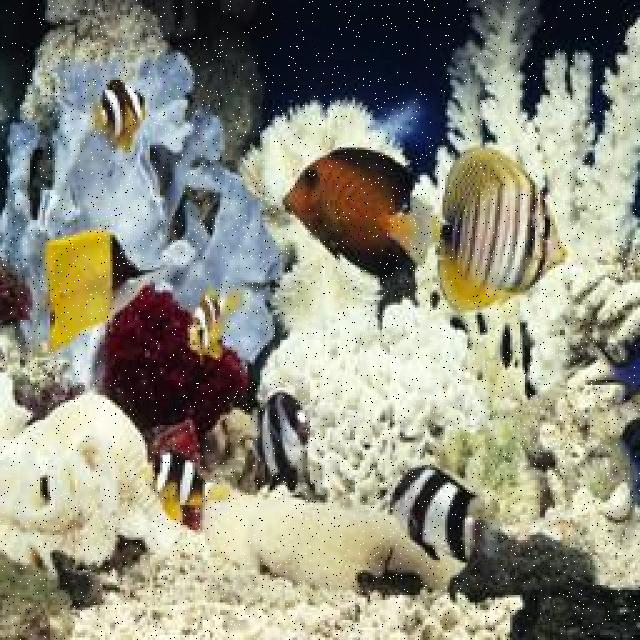fish: (430, 148, 570, 310), (283, 148, 433, 275), (36, 229, 167, 357), (377, 467, 485, 571), (142, 451, 232, 530), (247, 393, 311, 476), (90, 80, 147, 151), (190, 292, 245, 361)
reefs: (0, 395, 180, 575)
